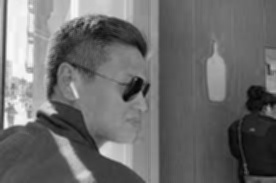earphone: (57, 63, 81, 101)
